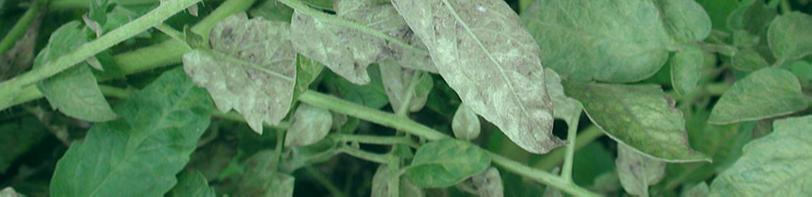Tomato mold leaf: (49, 77, 211, 197), (524, 0, 698, 76), (707, 42, 812, 130), (703, 114, 812, 197)
